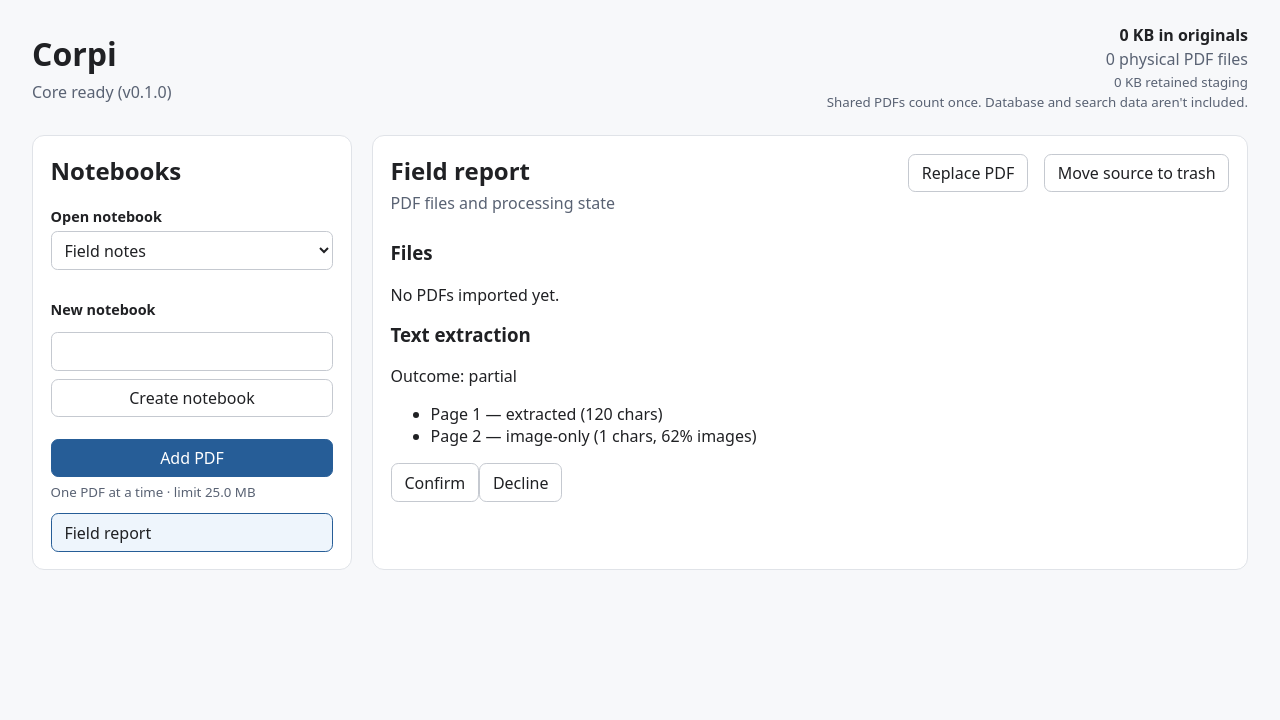
Test: confirms the reviewed extraction with its generation and offers Review Again
Click the button "Confirm": (435, 483) [391,463,479,502]
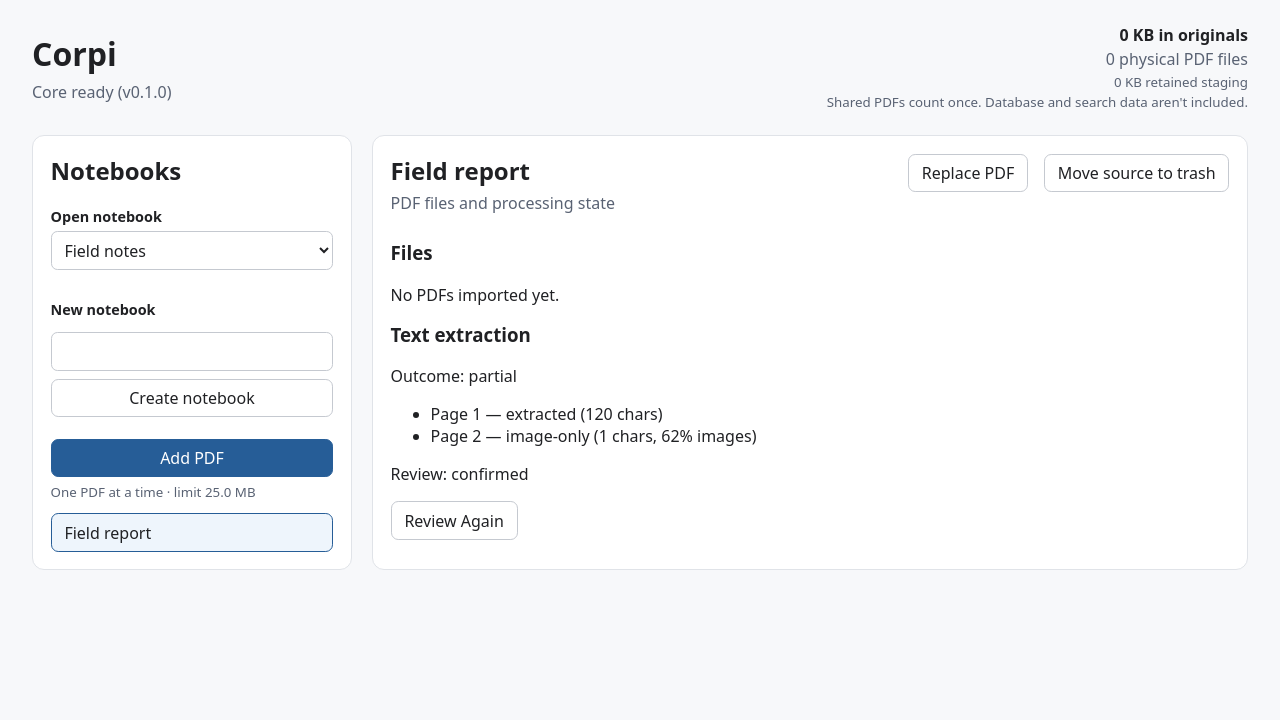
Expected: the text "Review: confirmed" is shown, [391,463,529,485]
Expected: the button "Review Again" is shown, [391,501,518,540]
